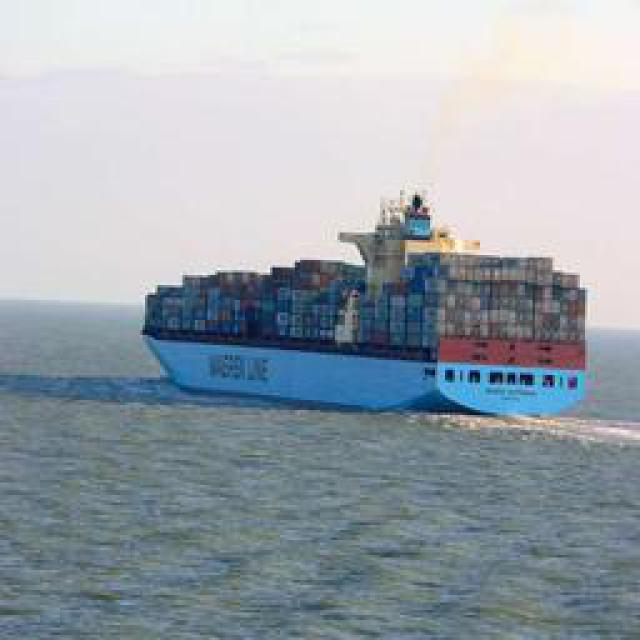Ship: (150, 180, 595, 423)
